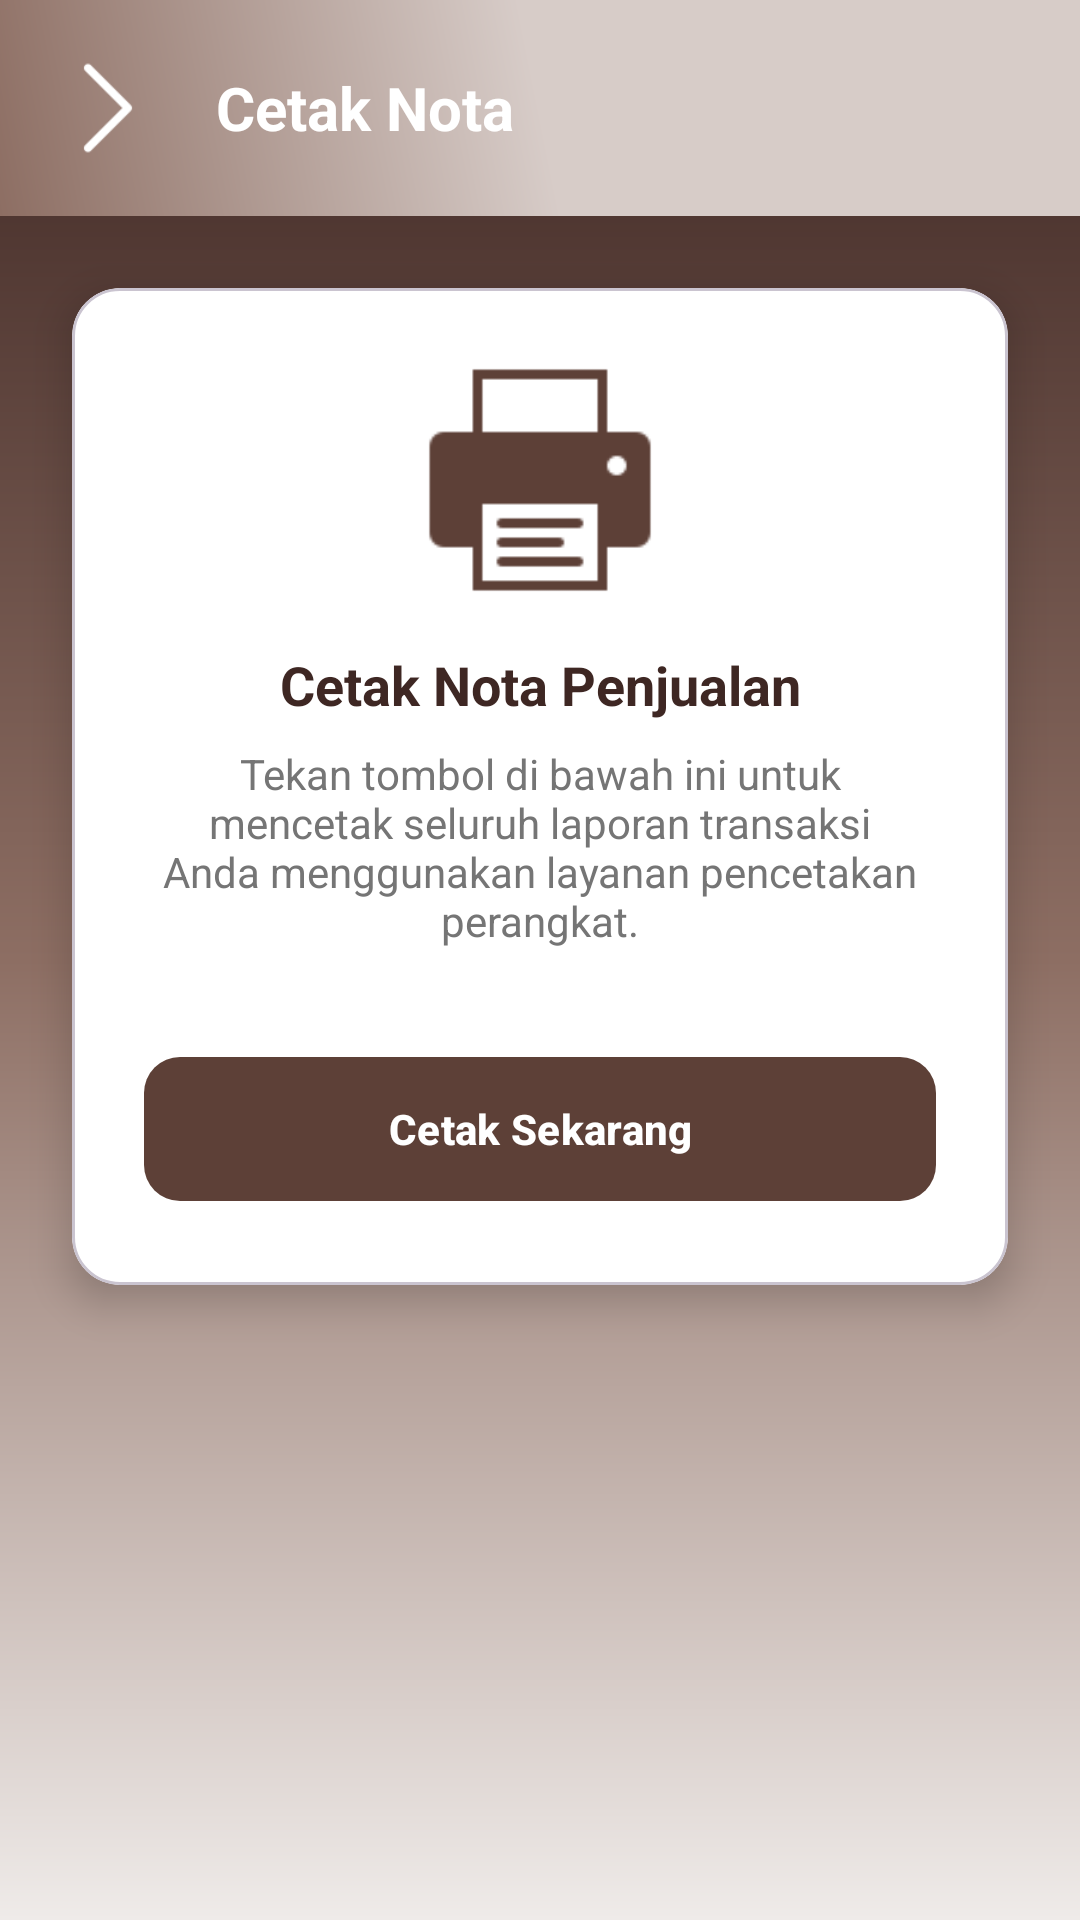

Icons on this 1080px×1920px Android screen, each with the point to tap as (x,y):
print: (540,480)
